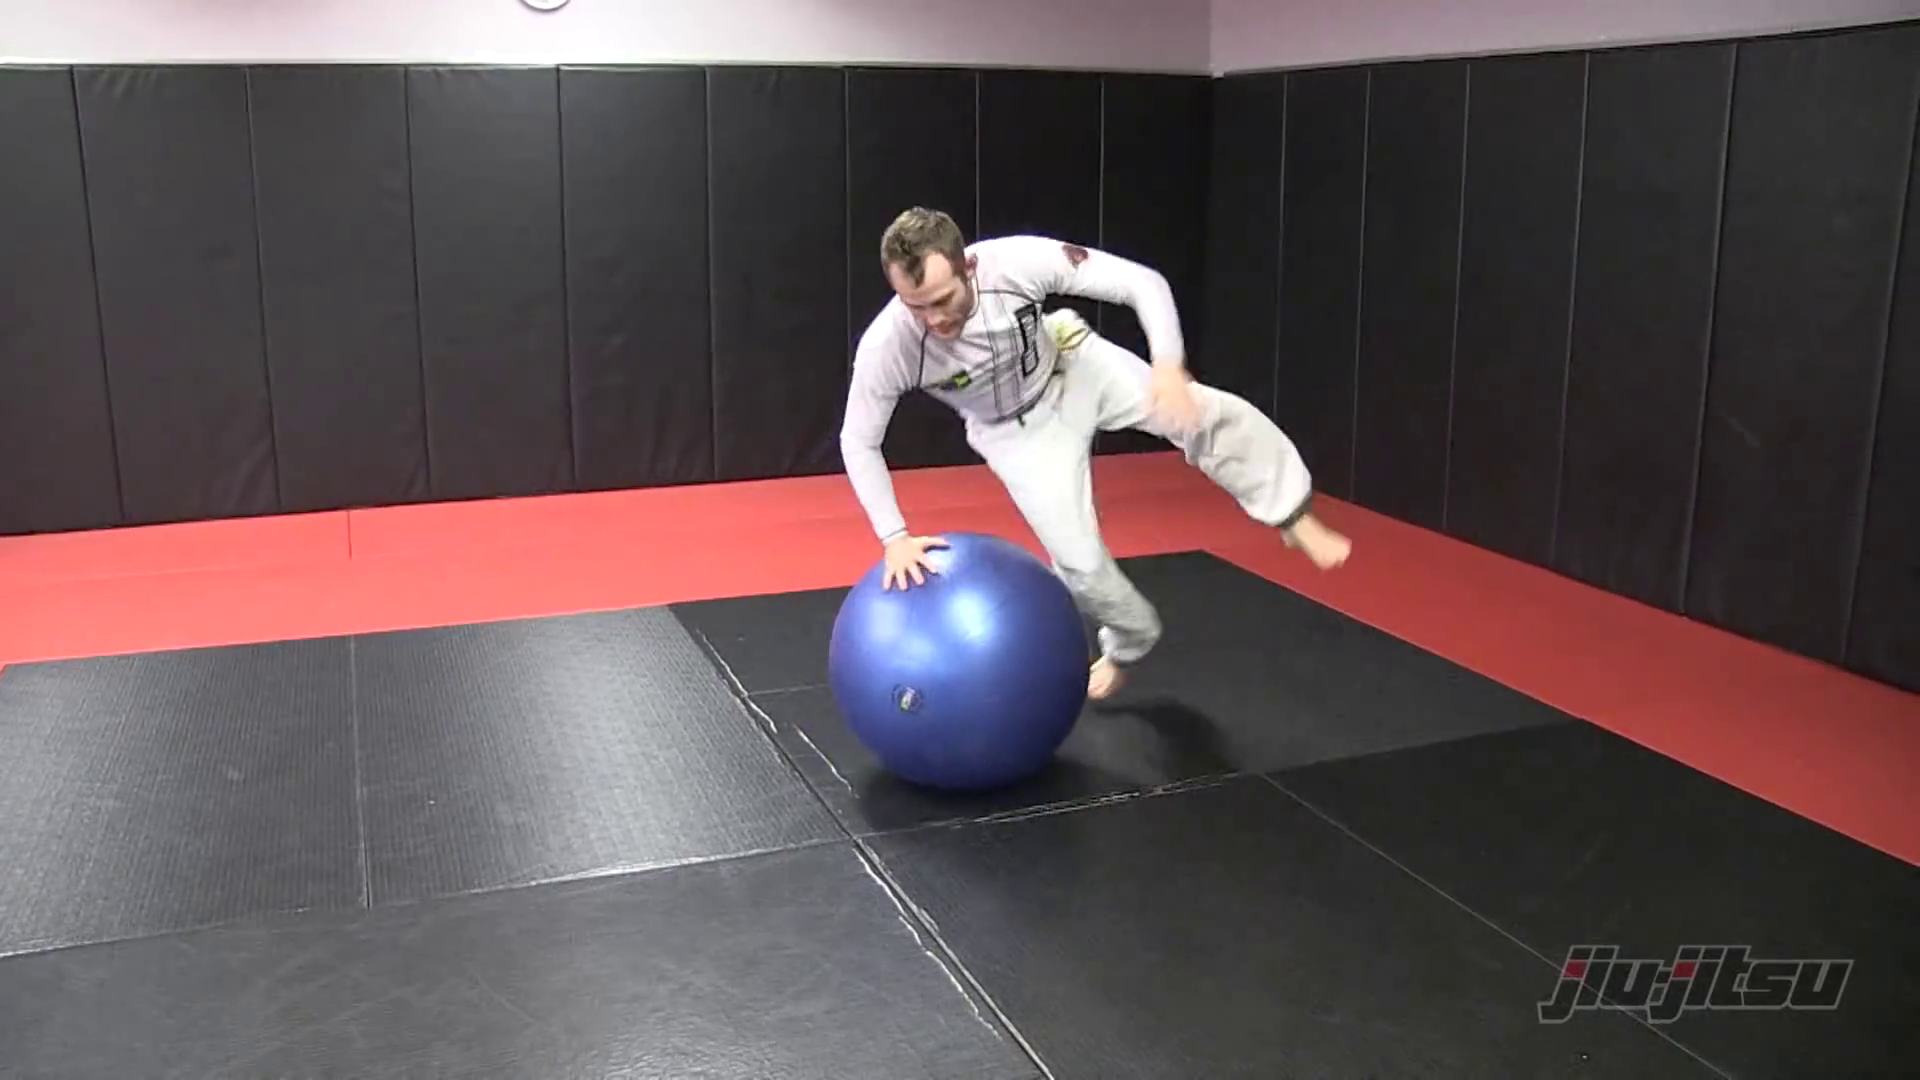yogaball: (819, 524, 1100, 814)
